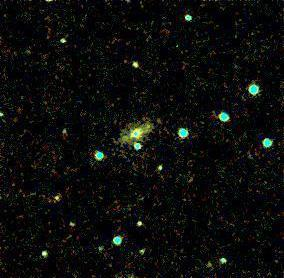star: (135, 111, 165, 141)
